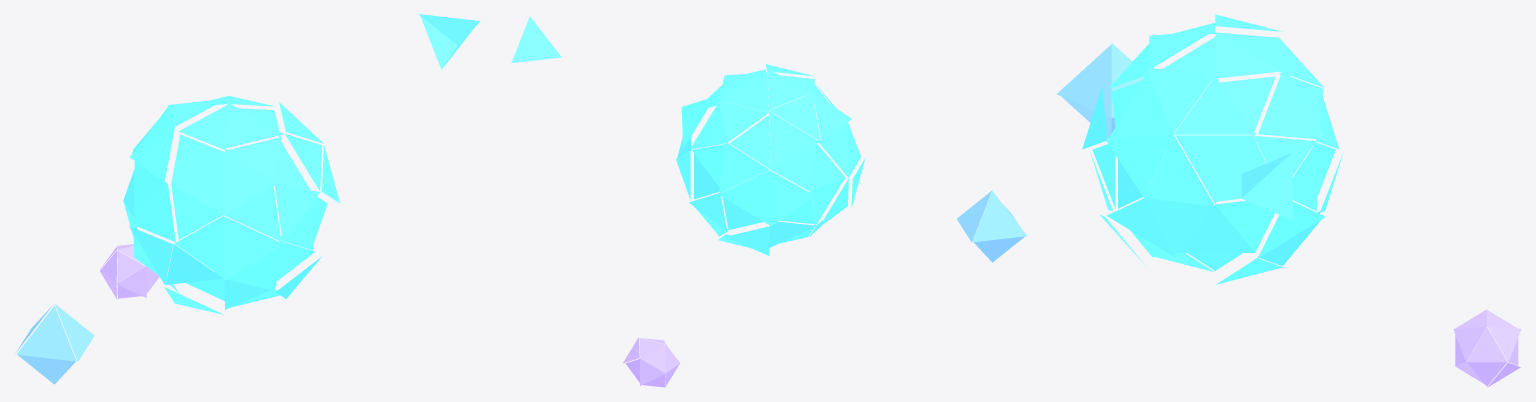
Rendered from creation_core.glb.
The picture shows the model from 3 angles, left to right: view 1: azimuth 30°, elevation 25°; view 2: azimuth 150°, elevation 25°; view 3: azimuth 270°, elevation 25°; orthographic projection. The views are drawn at different scales.
Parts seen in each view (by area): view 1: CreationCore, Artifact_octa, Artifact_ico, Artifact_tetra; view 2: CreationCore, Artifact_octa, Artifact_ico, Artifact_tetra; view 3: CreationCore, Artifact_ico, Artifact_octa, Artifact_tetra.
Boxes of the visible parts, <box> form: CreationCore: <box>123,96,339,314</box>; Artifact_octa: <box>15,304,94,384</box>; Artifact_ico: <box>100,244,159,299</box>; Artifact_tetra: <box>418,14,480,69</box>; CreationCore: <box>676,64,865,255</box>; Artifact_octa: <box>957,190,1027,262</box>; Artifact_ico: <box>623,337,680,387</box>; Artifact_tetra: <box>511,16,561,63</box>; CreationCore: <box>1082,14,1343,284</box>; Artifact_ico: <box>1453,309,1521,387</box>; Artifact_octa: <box>1056,43,1144,138</box>; Artifact_tetra: <box>1241,152,1292,220</box>.
Size of the model in its own units: 5.54 by 2.97 by 3.6.
